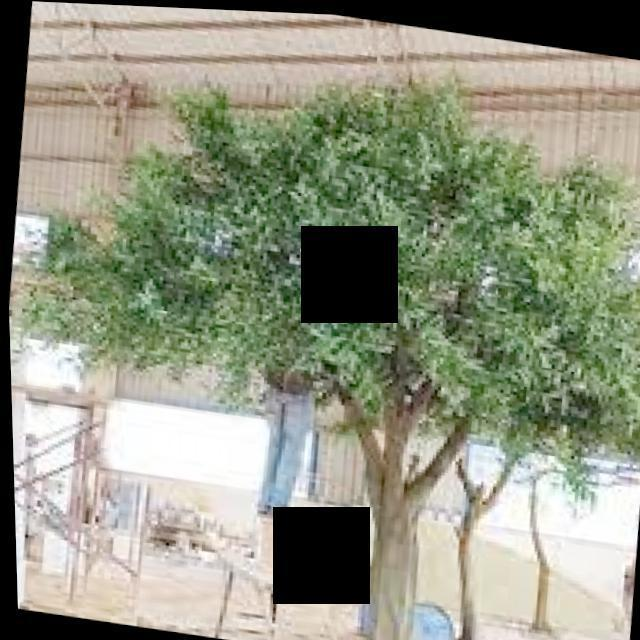tree: (0, 14, 640, 640), (586, 335, 640, 640)
